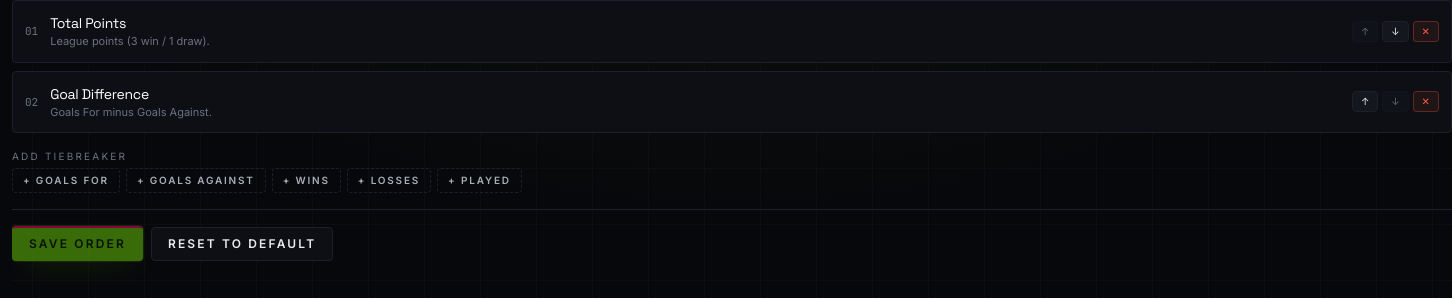
TiebreakerDragRank › removes a non-name key when the X button is clicked
Click the button named "Remove Goal Difference". click: (1426, 102)
box: left=1413, top=91, right=1439, bottom=112
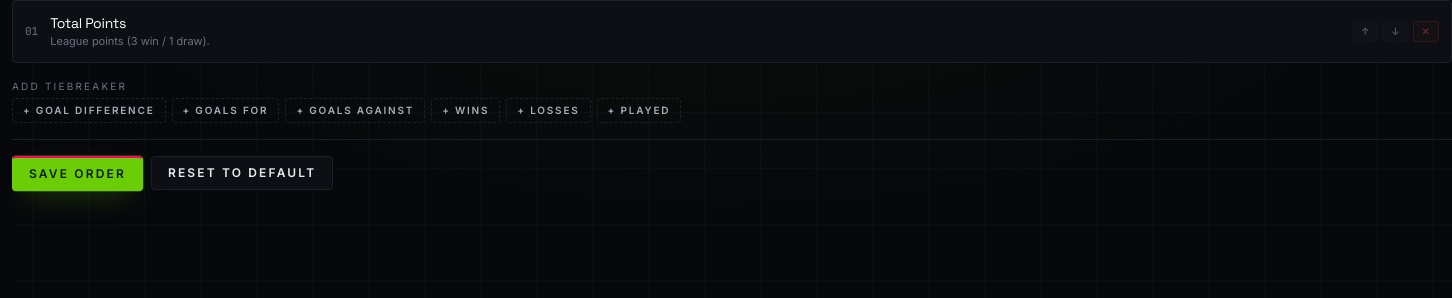
Result: the list item with test id "tiebreaker-row-gd" is gone
